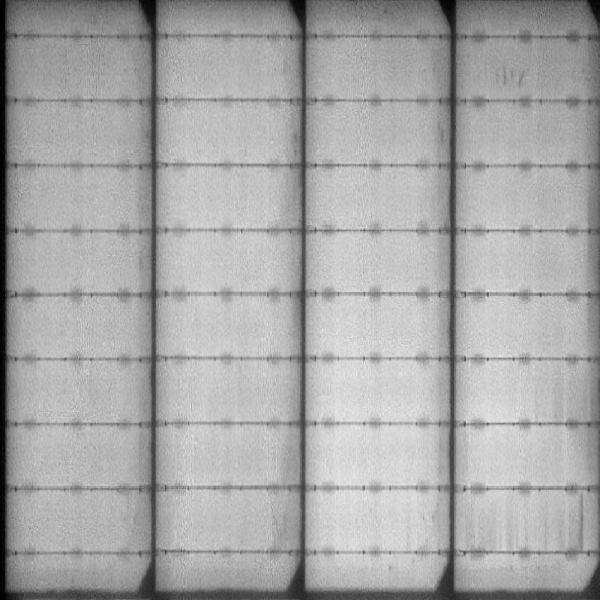scratch: (484, 59, 535, 89), (577, 493, 588, 553)
